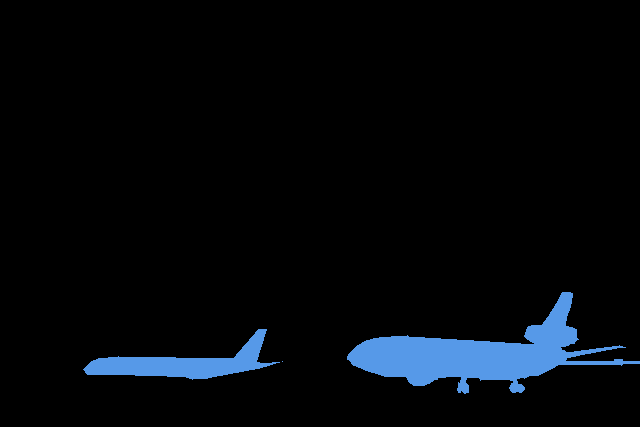Airplane: (347, 292, 640, 393), (83, 329, 282, 379)
